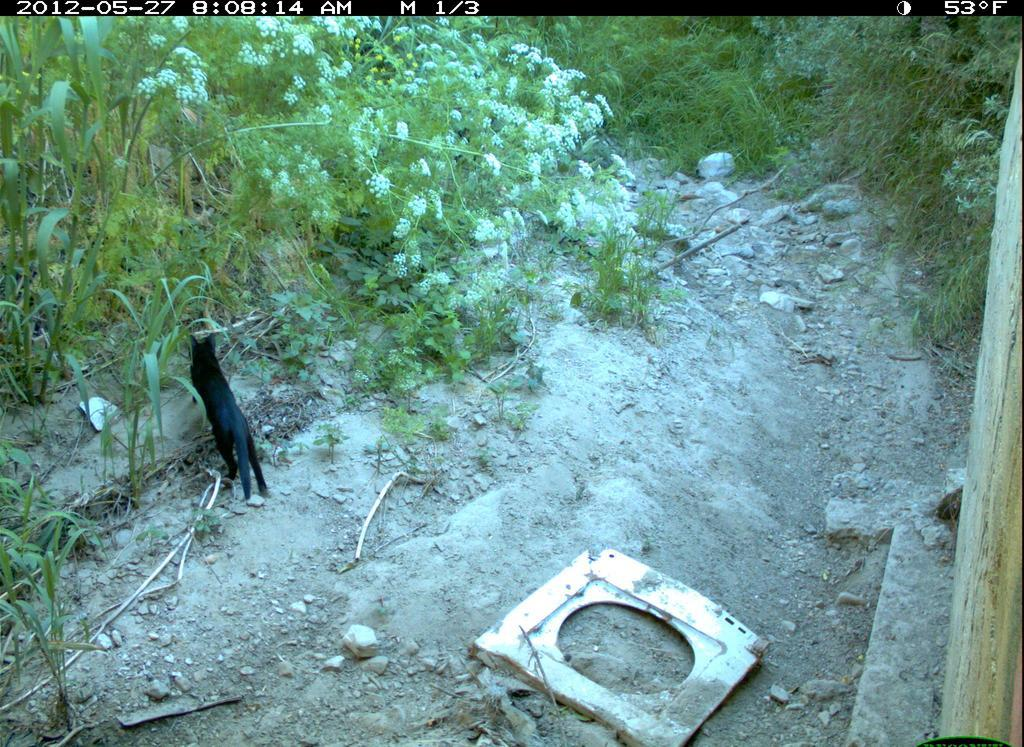cat: (178, 326, 273, 505)
